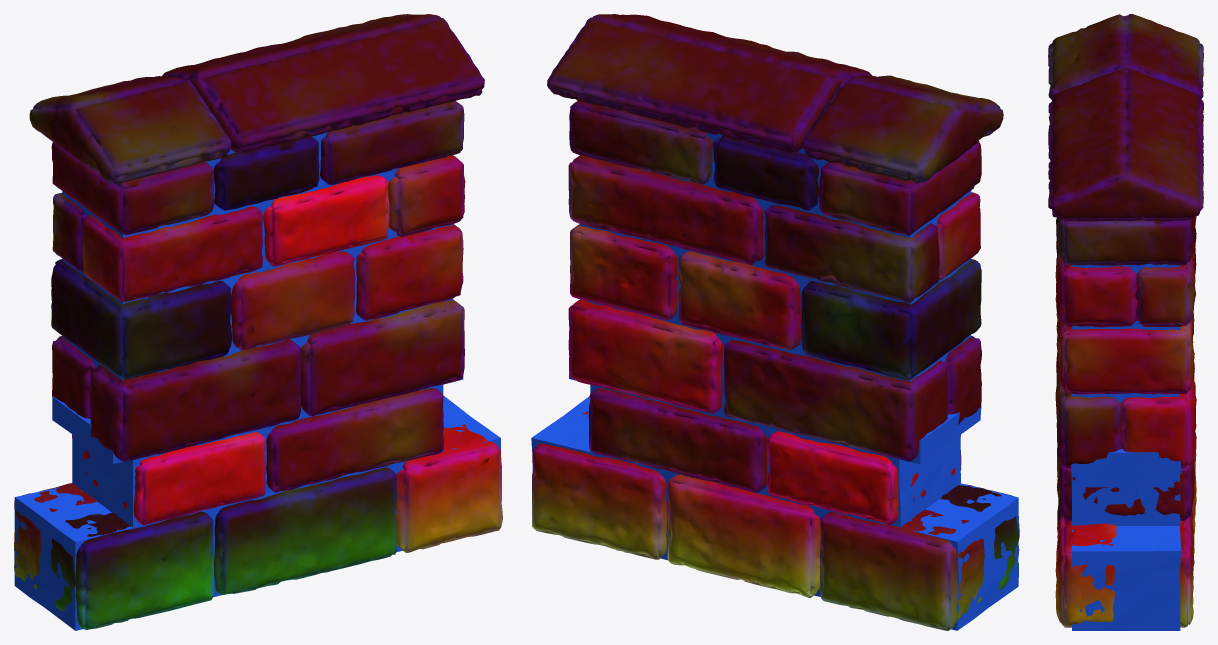
File: SM_Merlon488_C.fbx
The picture shows the model from 3 angles, left to right: view 1: azimuth 30°, elevation 25°; view 2: azimuth 150°, elevation 25°; view 3: azimuth 270°, elevation 25°; orthographic projection. The views are drawn at different scales.
Visible parts, largest first — view 1: SM_Merlon488_C; view 2: SM_Merlon488_C; view 3: SM_Merlon488_C.
Boxes of the visible parts, x1=… form: SM_Merlon488_C: x1=14, y1=14, x2=502, y2=630; SM_Merlon488_C: x1=531, y1=14, x2=1019, y2=630; SM_Merlon488_C: x1=1048, y1=14, x2=1203, y2=630.
Size of the model in its own units: 172 by 190 by 60.16.
